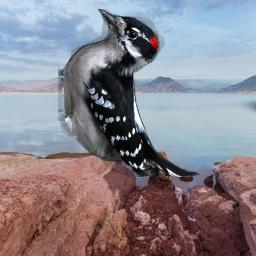Woodpecker: (58, 9, 200, 177)
